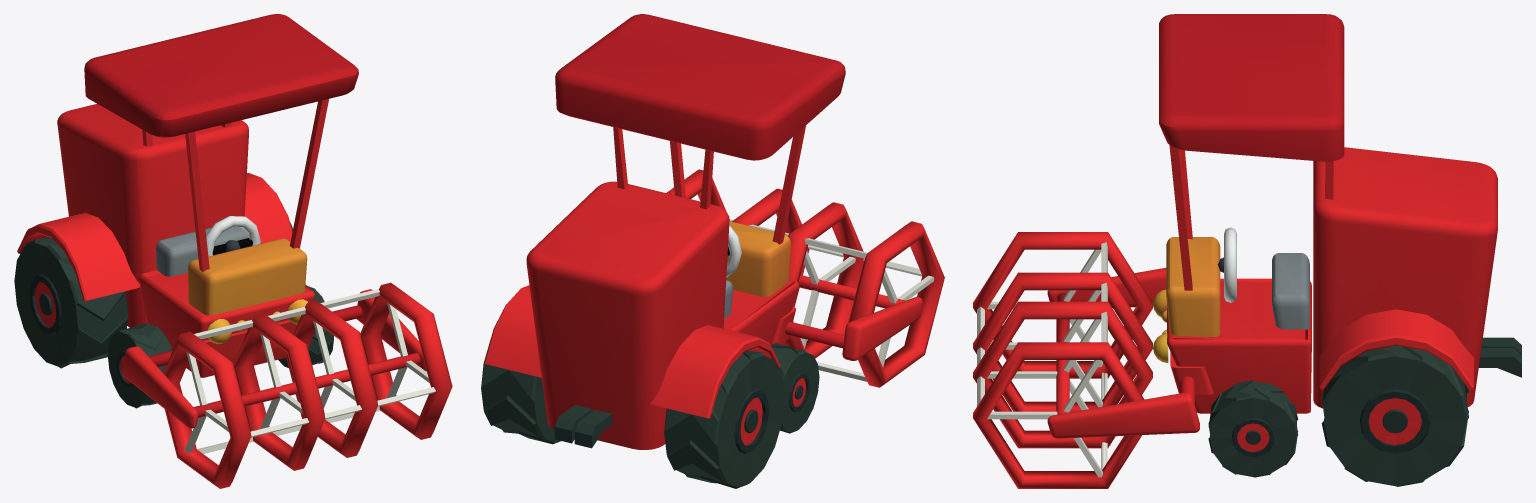
Rendered from Harvester_Default.fbx.
The picture shows the model from 3 angles, left to right: view 1: azimuth 30°, elevation 25°; view 2: azimuth 150°, elevation 25°; view 3: azimuth 270°, elevation 25°; orthographic projection. The views are drawn at different scales.
Parts seen in each view (by area): view 1: Truck, Little_cylinder, Back Wheels, Pim, Front Wheels, Direction_big; view 2: Truck, Little_cylinder, Back Wheels, Pim, Front Wheels, Direction_big; view 3: Truck, Little_cylinder, Back Wheels, Front Wheels, Pim, Direction_big.
Boxes of the visible parts, x1,y1,x2,y2 form: Truck: [17, 14, 358, 377]; Little_cylinder: [163, 282, 452, 488]; Back Wheels: [14, 222, 292, 368]; Pim: [122, 289, 426, 428]; Front Wheels: [108, 284, 333, 408]; Direction_big: [206, 216, 260, 256]; Truck: [484, 14, 845, 449]; Little_cylinder: [666, 169, 944, 387]; Back Wheels: [481, 338, 784, 488]; Pim: [785, 297, 922, 360]; Front Wheels: [771, 343, 819, 433]; Direction_big: [726, 225, 741, 277]; Truck: [1153, 14, 1521, 413]; Little_cylinder: [973, 232, 1152, 488]; Back Wheels: [1321, 345, 1468, 486]; Front Wheels: [1208, 380, 1298, 477]; Pim: [1047, 267, 1199, 438]; Direction_big: [1218, 227, 1236, 302].
Bounding box in the file's own units: 2.94 × 3.67 × 4.99.
